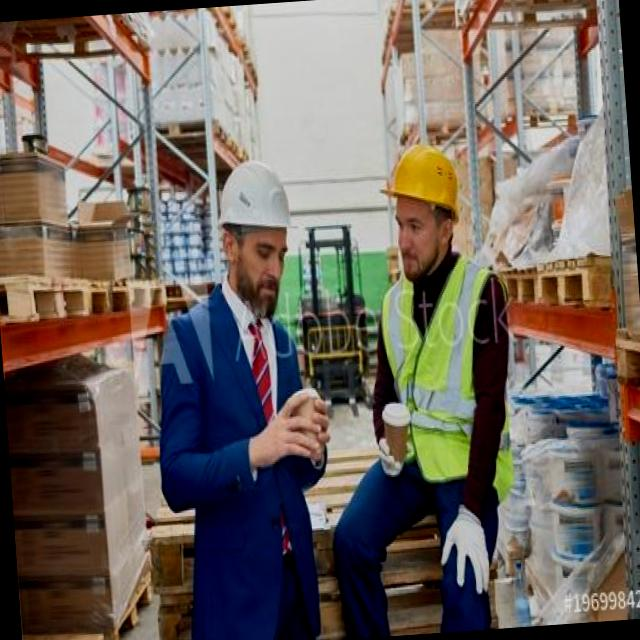helmet: (206, 160, 302, 260), (370, 134, 466, 228)
no-vest: (158, 290, 326, 589)
vest: (372, 259, 522, 498)
